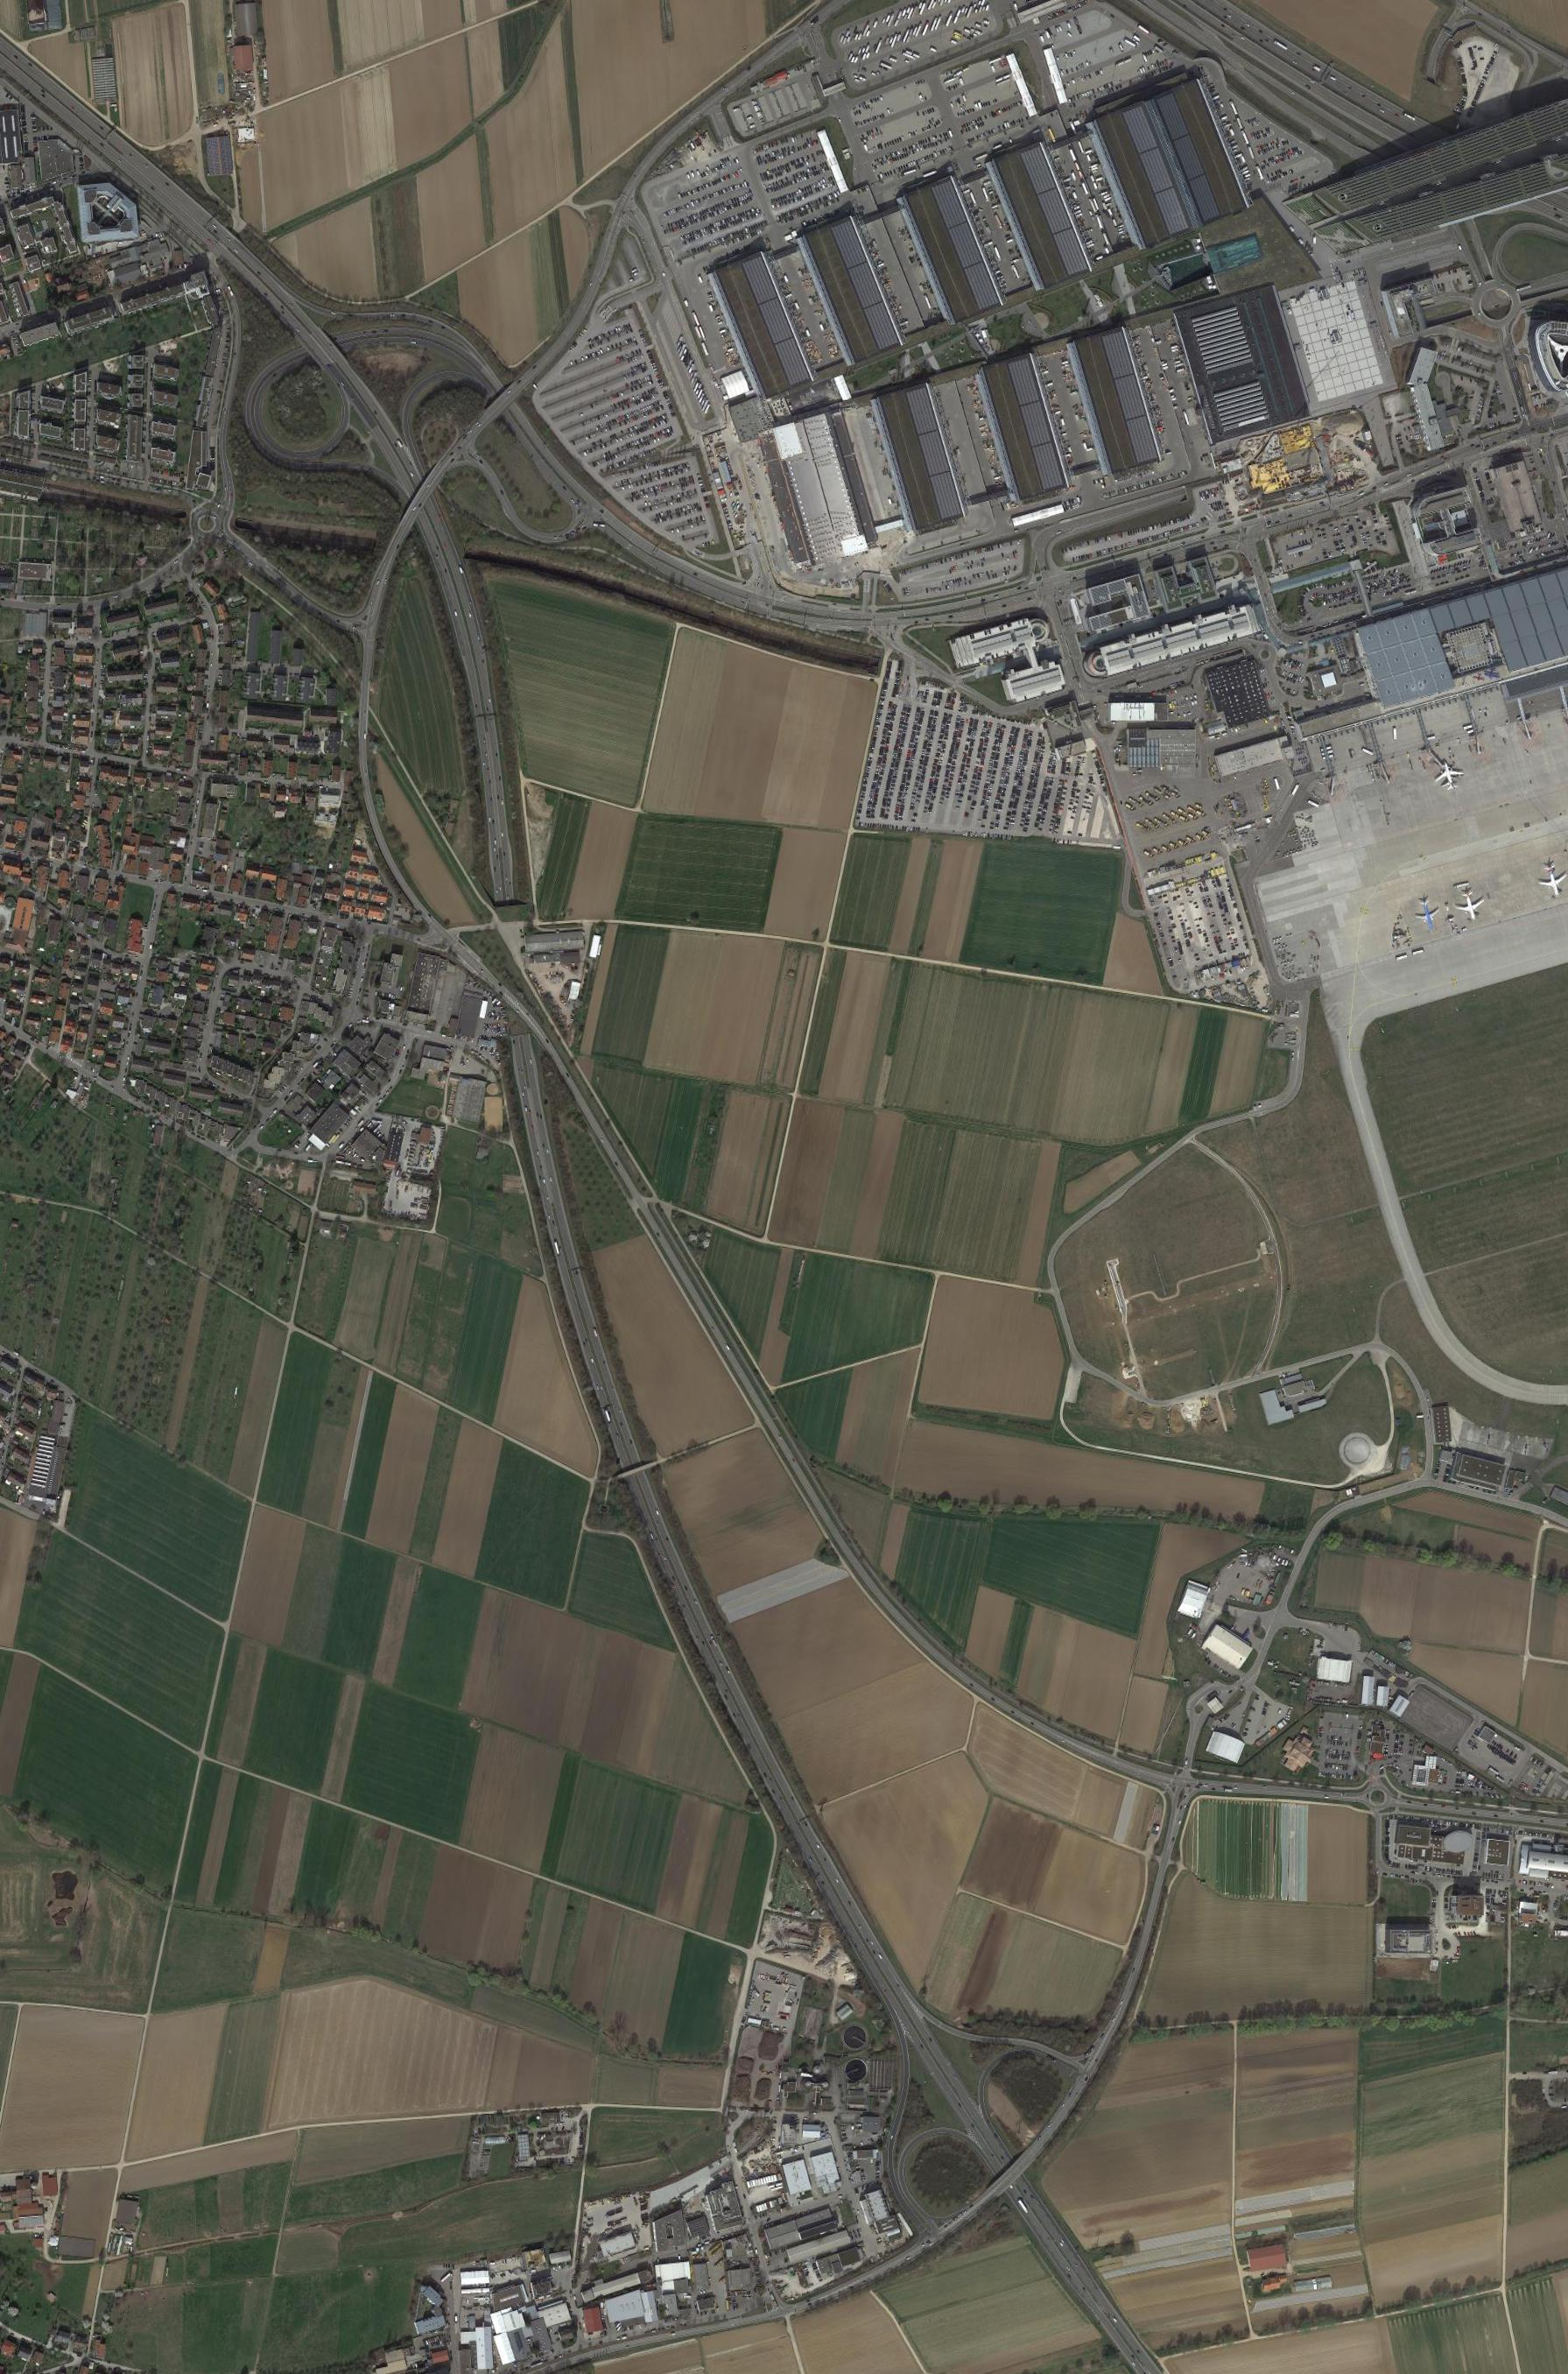plane: (1449, 878, 1493, 924), (1409, 889, 1447, 936), (1530, 855, 1566, 899), (1430, 756, 1466, 794)
